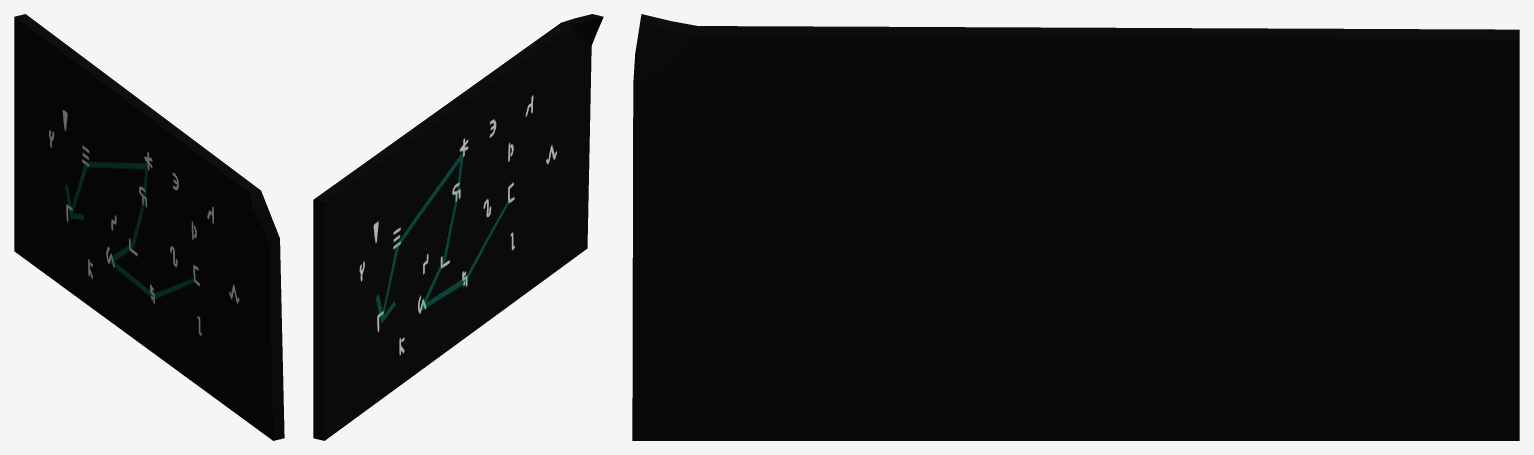
The model's file is map.fbx.
3 renders of one model, left to right at view 1: azimuth 30°, elevation 25°; view 2: azimuth 150°, elevation 25°; view 3: azimuth 270°, elevation 25°, orthographic. The views are drawn at different scales.
Visible parts, largest first — view 1: room.map; view 2: room.map; view 3: room.map.
Part boxes in pixels (box(x1,y1,x2,y2)): room.map: box(14, 14, 284, 440); room.map: box(313, 14, 603, 440); room.map: box(632, 14, 1519, 440).
Bounding box in the file's own units: 13.33 × 100 × 200.
